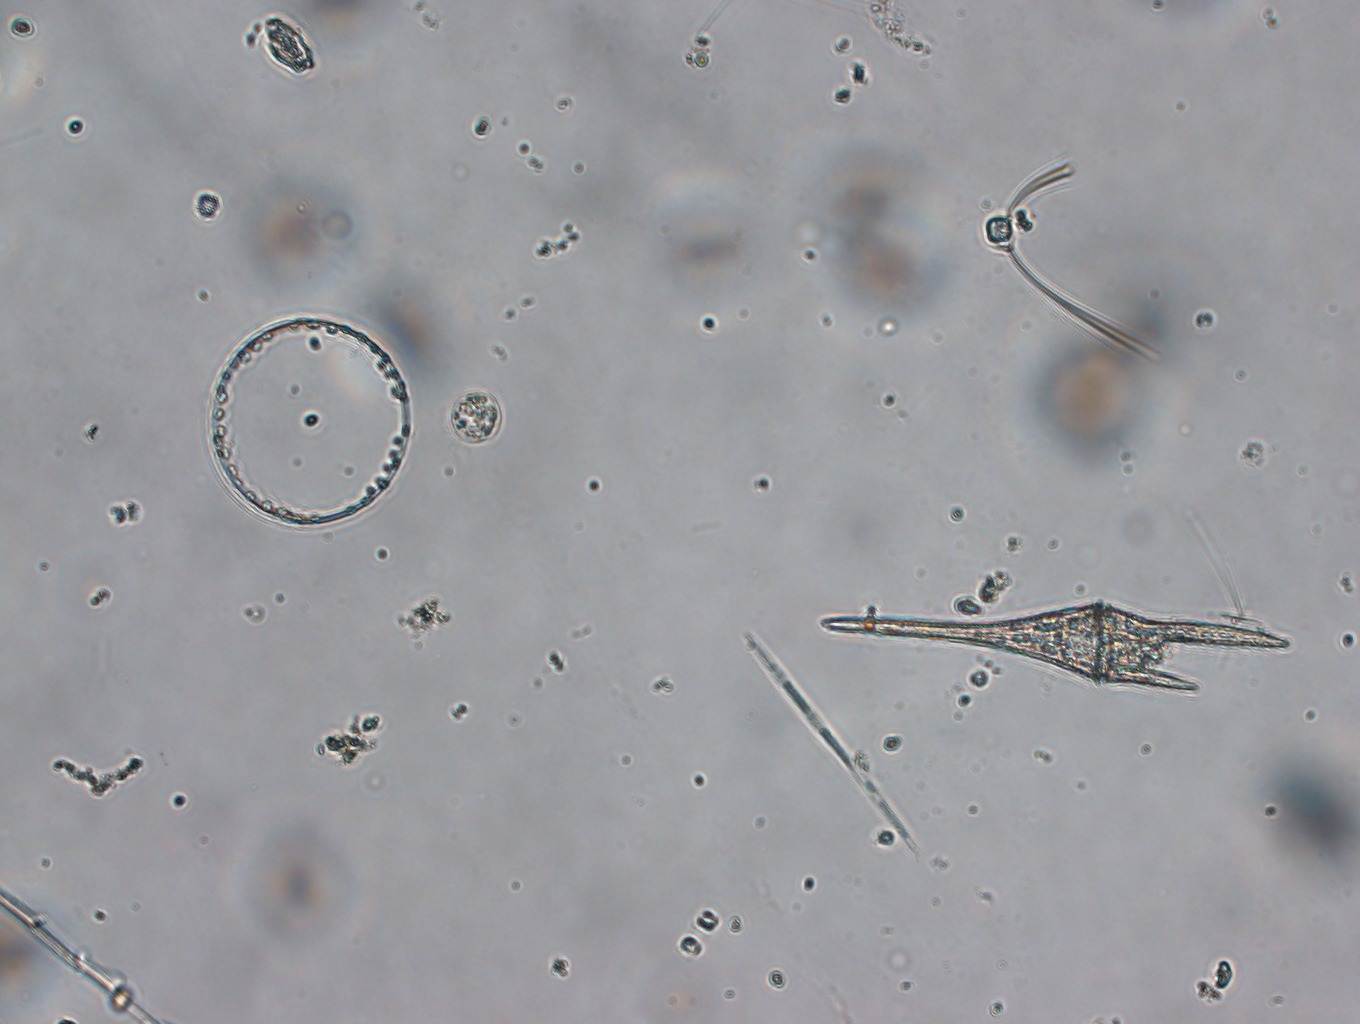ceratium furca: (817, 599, 1291, 692)
chaetoceros: (980, 163, 1160, 361)
coscinodiscus: (205, 316, 412, 526)
